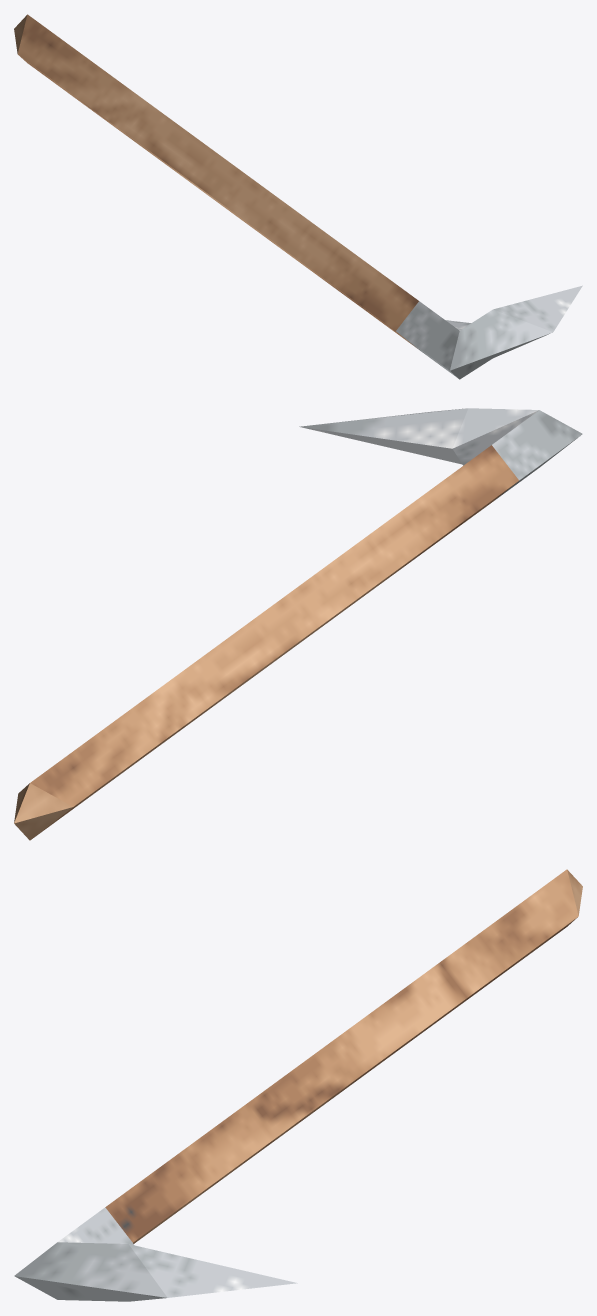
File: Hoe.obj
3 renders of one model, top to bottom at view 1: azimuth 30°, elevation 25°; view 2: azimuth 150°, elevation 25°; view 3: azimuth 330°, elevation 25°, orthographic. The views are drawn at different scales.
Parts seen in each view (by area): view 1: Hoe; view 2: Hoe; view 3: Hoe.
Part boxes in pixels (x1,y1,x2,y2): Hoe: (14,14,582,379); Hoe: (14,408,582,840); Hoe: (14,869,582,1301).
Bounding box in the file's own units: 0.8 × 0.2 × 3.4.
